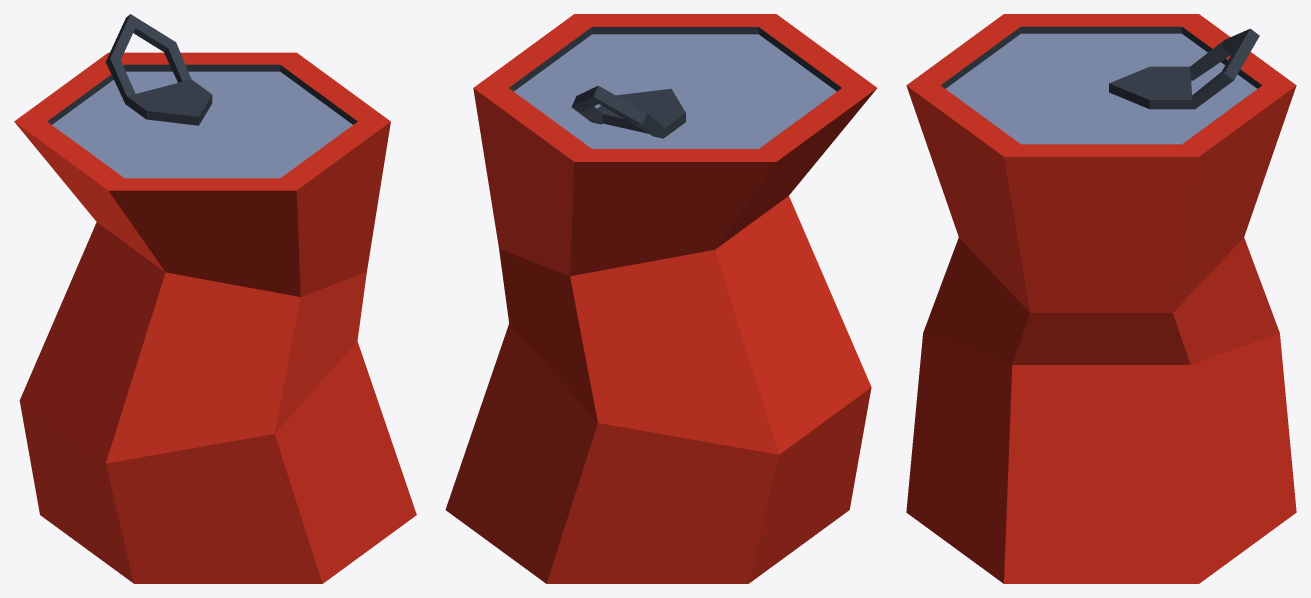
File: can.fbx
The picture shows the model from 3 angles, left to right: view 1: azimuth 30°, elevation 25°; view 2: azimuth 150°, elevation 25°; view 3: azimuth 270°, elevation 25°; orthographic projection. The views are drawn at different scales.
Parts seen in each view (by area): view 1: can; view 2: can; view 3: can.
Boxes of the visible parts, <box> form: can: <box>14,14,416,583</box>; can: <box>445,14,876,583</box>; can: <box>906,14,1296,583</box>.
Size of the model in its own units: 0.2558 by 0.3601 by 0.2705.
